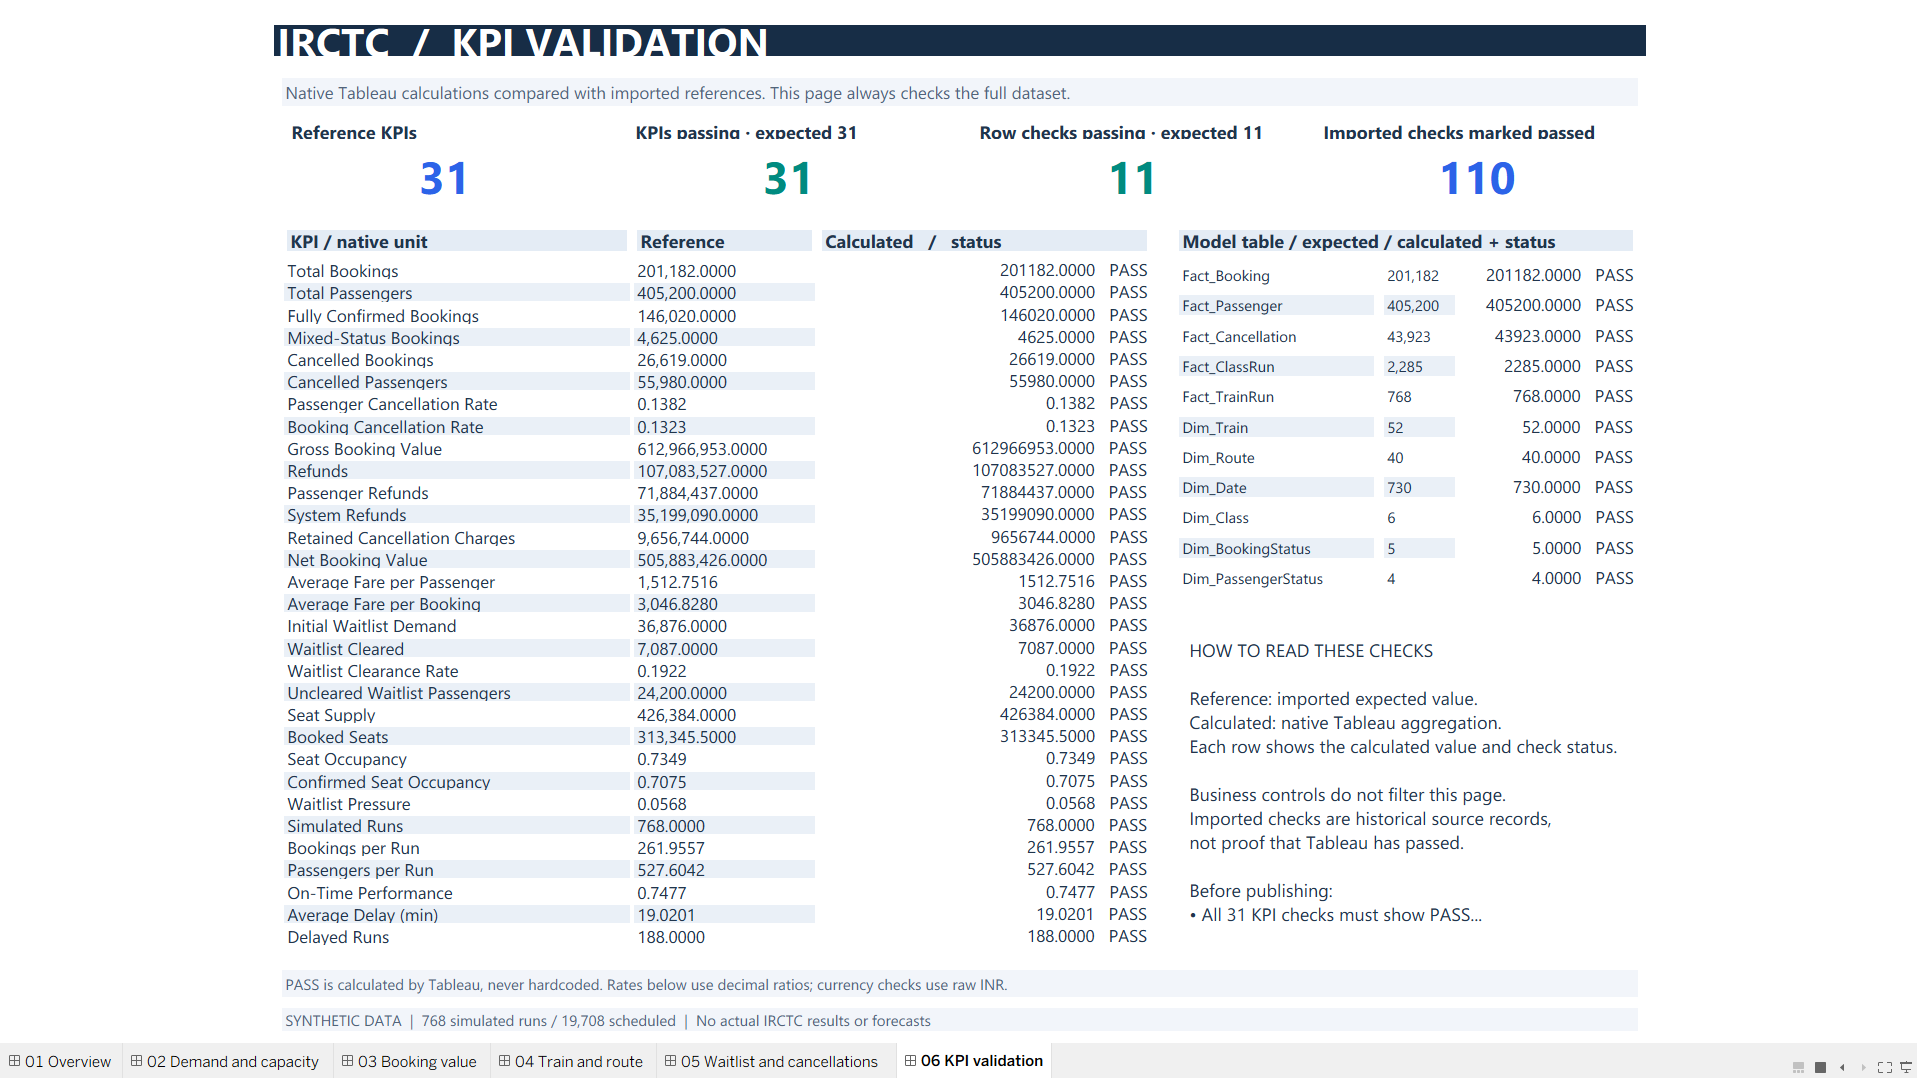

What the dashboard file says about the page in this screenshot:
{"tool":"tableau","page":{"name":"06 KPI validation","canvas":[1400,1020],"ordinal":5},"visuals":[{"type":"text","box":[0,0,1400,58]},{"type":"text","box":[22,66,1356,28]},{"type":"text","box":[22,106,327,27]},{"type":"text","box":[366,106,327,27]},{"type":"text","box":[710,106,327,27]},{"type":"text","box":[1054,106,327,27]},{"type":"worksheet","title":"06 KPI Reference KPIs","mark":"Text","box":[22,133,327,61]},{"type":"worksheet","title":"06 KPI KPIs passing · expected 31","mark":"Text","box":[366,133,327,61]},{"type":"worksheet","title":"06 KPI Row checks passing · expected 11","mark":"Text","box":[710,133,327,61]},{"type":"worksheet","title":"06 KPI Imported checks marked passed","mark":"Text","box":[1054,133,327,61]},{"type":"text","box":[22,212,350,31]},{"type":"text","box":[372,212,185,31]},{"type":"text","box":[557,212,335,31]},{"type":"text","box":[914,212,464,31]},{"type":"text","box":[22,246,350,22]},{"type":"text","box":[372,246,185,22]},{"type":"worksheet","title":"CHECK total_bookings","mark":"Text","box":[557,246,335,22]},{"type":"text","box":[914,247,205,30]},{"type":"text","box":[1119,247,81,30]},{"type":"worksheet","title":"ROWS Fact_Booking","mark":"Text","box":[1200,247,178,30]},{"type":"text","box":[22,268,350,22]},{"type":"text","box":[372,268,185,22]},{"type":"worksheet","title":"CHECK total_passengers","mark":"Text","box":[557,268,335,22]},{"type":"text","box":[914,277,205,30]},{"type":"text","box":[1119,277,81,30]},{"type":"worksheet","title":"ROWS Fact_Passenger","mark":"Text","box":[1200,277,178,30]},{"type":"text","box":[22,290,350,22]},{"type":"text","box":[372,290,185,22]},{"type":"worksheet","title":"CHECK confirmed_bookings","mark":"Text","box":[557,290,335,22]},{"type":"text","box":[914,307,205,30]},{"type":"text","box":[1119,307,81,30]},{"type":"worksheet","title":"ROWS Fact_Cancellation","mark":"Text","box":[1200,307,178,30]},{"type":"text","box":[22,312,350,22]},{"type":"text","box":[372,312,185,22]},{"type":"worksheet","title":"CHECK mixed_bookings","mark":"Text","box":[557,312,335,22]},{"type":"text","box":[22,334,350,22]},{"type":"text","box":[372,334,185,22]},{"type":"worksheet","title":"CHECK cancelled_bookings","mark":"Text","box":[557,334,335,22]},{"type":"text","box":[914,337,205,30]},{"type":"text","box":[1119,337,81,30]},{"type":"worksheet","title":"ROWS Fact_ClassRun","mark":"Text","box":[1200,337,178,30]},{"type":"text","box":[22,356,350,22]},{"type":"text","box":[372,356,185,22]},{"type":"worksheet","title":"CHECK cancelled_passengers","mark":"Text","box":[557,356,335,22]},{"type":"text","box":[914,367,205,30]},{"type":"text","box":[1119,367,81,30]},{"type":"worksheet","title":"ROWS Fact_TrainRun","mark":"Text","box":[1200,367,178,30]},{"type":"text","box":[22,378,350,22]},{"type":"text","box":[372,378,185,22]},{"type":"worksheet","title":"CHECK passenger_cancellation_rate","mark":"Text","box":[557,378,335,22]},{"type":"text","box":[914,397,205,30]},{"type":"text","box":[1119,397,81,30]},{"type":"worksheet","title":"ROWS Dim_Train","mark":"Text","box":[1200,397,178,30]},{"type":"text","box":[22,400,350,22]},{"type":"text","box":[372,400,185,22]},{"type":"worksheet","title":"CHECK booking_cancellation_rate","mark":"Text","box":[557,400,335,22]},{"type":"text","box":[22,422,350,22]},{"type":"text","box":[372,422,185,22]},{"type":"worksheet","title":"CHECK gross_value","mark":"Text","box":[557,422,335,22]},{"type":"text","box":[914,427,205,30]},{"type":"text","box":[1119,427,81,30]},{"type":"worksheet","title":"ROWS Dim_Route","mark":"Text","box":[1200,427,178,30]},{"type":"text","box":[22,444,350,22]},{"type":"text","box":[372,444,185,22]},{"type":"worksheet","title":"CHECK refund_total","mark":"Text","box":[557,444,335,22]},{"type":"text","box":[914,457,205,30]},{"type":"text","box":[1119,457,81,30]},{"type":"worksheet","title":"ROWS Dim_Date","mark":"Text","box":[1200,457,178,30]},{"type":"text","box":[22,466,350,22]},{"type":"text","box":[372,466,185,22]},{"type":"worksheet","title":"CHECK refund_passenger","mark":"Text","box":[557,466,335,22]},{"type":"text","box":[914,487,205,30]},{"type":"text","box":[1119,487,81,30]},{"type":"worksheet","title":"ROWS Dim_Class","mark":"Text","box":[1200,487,178,30]},{"type":"text","box":[22,488,350,22]},{"type":"text","box":[372,488,185,22]},{"type":"worksheet","title":"CHECK refund_system","mark":"Text","box":[557,488,335,22]},{"type":"text","box":[22,510,350,22]},{"type":"text","box":[372,510,185,22]},{"type":"worksheet","title":"CHECK retained_charges","mark":"Text","box":[557,510,335,22]},{"type":"text","box":[914,517,205,30]},{"type":"text","box":[1119,517,81,30]},{"type":"worksheet","title":"ROWS Dim_BookingStatus","mark":"Text","box":[1200,517,178,30]},{"type":"text","box":[22,532,350,22]},{"type":"text","box":[372,532,185,22]},{"type":"worksheet","title":"CHECK net_value","mark":"Text","box":[557,532,335,22]},{"type":"text","box":[914,547,205,30]},{"type":"text","box":[1119,547,81,30]},{"type":"worksheet","title":"ROWS Dim_PassengerStatus","mark":"Text","box":[1200,547,178,30]},{"type":"text","box":[22,554,350,22]},{"type":"text","box":[372,554,185,22]},{"type":"worksheet","title":"CHECK avg_fare_per_passenger","mark":"Text","box":[557,554,335,22]},{"type":"text","box":[22,576,350,22]},{"type":"text","box":[372,576,185,22]},{"type":"worksheet","title":"CHECK avg_fare_per_booking","mark":"Text","box":[557,576,335,22]},{"type":"text","box":[22,598,350,22]},{"type":"text","box":[372,598,185,22]},{"type":"worksheet","title":"CHECK wl_demand","mark":"Text","box":[557,598,335,22]},{"type":"text","box":[914,603,464,323]},{"type":"text","box":[22,620,350,22]},{"type":"text","box":[372,620,185,22]},{"type":"worksheet","title":"CHECK wl_cleared","mark":"Text","box":[557,620,335,22]},{"type":"text","box":[22,642,350,22]},{"type":"text","box":[372,642,185,22]},{"type":"worksheet","title":"CHECK wl_clearance_rate","mark":"Text","box":[557,642,335,22]},{"type":"text","box":[22,664,350,22]},{"type":"text","box":[372,664,185,22]},{"type":"worksheet","title":"CHECK wl_uncleared","mark":"Text","box":[557,664,335,22]},{"type":"text","box":[22,686,350,22]},{"type":"text","box":[372,686,185,22]},{"type":"worksheet","title":"CHECK seat_supply","mark":"Text","box":[557,686,335,22]},{"type":"text","box":[22,708,350,22]},{"type":"text","box":[372,708,185,22]},{"type":"worksheet","title":"CHECK booked_seats","mark":"Text","box":[557,708,335,22]},{"type":"text","box":[22,730,350,22]},{"type":"text","box":[372,730,185,22]},{"type":"worksheet","title":"CHECK occupancy","mark":"Text","box":[557,730,335,22]},{"type":"text","box":[22,752,350,22]},{"type":"text","box":[372,752,185,22]},{"type":"worksheet","title":"CHECK confirmed_occupancy","mark":"Text","box":[557,752,335,22]},{"type":"text","box":[22,774,350,22]},{"type":"text","box":[372,774,185,22]},{"type":"worksheet","title":"CHECK waitlist_pressure","mark":"Text","box":[557,774,335,22]},{"type":"text","box":[22,796,350,22]},{"type":"text","box":[372,796,185,22]},{"type":"worksheet","title":"CHECK simulated_runs","mark":"Text","box":[557,796,335,22]},{"type":"text","box":[22,818,350,22]},{"type":"text","box":[372,818,185,22]},{"type":"worksheet","title":"CHECK bookings_per_run","mark":"Text","box":[557,818,335,22]},{"type":"text","box":[22,840,350,22]},{"type":"text","box":[372,840,185,22]},{"type":"worksheet","title":"CHECK passengers_per_run","mark":"Text","box":[557,840,335,22]},{"type":"text","box":[22,862,350,22]},{"type":"text","box":[372,862,185,22]},{"type":"worksheet","title":"CHECK otp","mark":"Text","box":[557,862,335,22]},{"type":"text","box":[22,884,350,22]},{"type":"text","box":[372,884,185,22]},{"type":"worksheet","title":"CHECK avg_delay","mark":"Text","box":[557,884,335,22]},{"type":"text","box":[22,906,350,22]},{"type":"text","box":[372,906,185,22]},{"type":"worksheet","title":"CHECK delayed_runs","mark":"Text","box":[557,906,335,22]},{"type":"text","box":[22,951,1356,27]},{"type":"text","box":[22,988,1356,23]}]}

Visuals, with their boxes on the page's 1400x1020 design canvas (x1, y1, x2, y2). These are canvas units, not pixel positions in the 1917x1078 screenshot, which may show the page scaled, cropped or inside an application window:
text: locate(0, 0, 1400, 58)
text: locate(22, 66, 1378, 94)
text: locate(22, 106, 349, 133)
text: locate(366, 106, 693, 133)
text: locate(710, 106, 1037, 133)
text: locate(1054, 106, 1381, 133)
"06 KPI Reference KPIs" worksheet (Text marks): locate(22, 133, 349, 194)
"06 KPI KPIs passing · expected 31" worksheet (Text marks): locate(366, 133, 693, 194)
"06 KPI Row checks passing · expected 11" worksheet (Text marks): locate(710, 133, 1037, 194)
"06 KPI Imported checks marked passed" worksheet (Text marks): locate(1054, 133, 1381, 194)
text: locate(22, 212, 372, 243)
text: locate(372, 212, 557, 243)
text: locate(557, 212, 892, 243)
text: locate(914, 212, 1378, 243)
text: locate(22, 246, 372, 268)
text: locate(372, 246, 557, 268)
"CHECK total_bookings" worksheet (Text marks): locate(557, 246, 892, 268)
text: locate(914, 247, 1119, 277)
text: locate(1119, 247, 1200, 277)
"ROWS Fact_Booking" worksheet (Text marks): locate(1200, 247, 1378, 277)
text: locate(22, 268, 372, 290)
text: locate(372, 268, 557, 290)
"CHECK total_passengers" worksheet (Text marks): locate(557, 268, 892, 290)
text: locate(914, 277, 1119, 307)
text: locate(1119, 277, 1200, 307)
"ROWS Fact_Passenger" worksheet (Text marks): locate(1200, 277, 1378, 307)
text: locate(22, 290, 372, 312)
text: locate(372, 290, 557, 312)
"CHECK confirmed_bookings" worksheet (Text marks): locate(557, 290, 892, 312)
text: locate(914, 307, 1119, 337)
text: locate(1119, 307, 1200, 337)
"ROWS Fact_Cancellation" worksheet (Text marks): locate(1200, 307, 1378, 337)
text: locate(22, 312, 372, 334)
text: locate(372, 312, 557, 334)
"CHECK mixed_bookings" worksheet (Text marks): locate(557, 312, 892, 334)
text: locate(22, 334, 372, 356)
text: locate(372, 334, 557, 356)
"CHECK cancelled_bookings" worksheet (Text marks): locate(557, 334, 892, 356)
text: locate(914, 337, 1119, 367)
text: locate(1119, 337, 1200, 367)
"ROWS Fact_ClassRun" worksheet (Text marks): locate(1200, 337, 1378, 367)
text: locate(22, 356, 372, 378)
text: locate(372, 356, 557, 378)
"CHECK cancelled_passengers" worksheet (Text marks): locate(557, 356, 892, 378)
text: locate(914, 367, 1119, 397)
text: locate(1119, 367, 1200, 397)
"ROWS Fact_TrainRun" worksheet (Text marks): locate(1200, 367, 1378, 397)
text: locate(22, 378, 372, 400)
text: locate(372, 378, 557, 400)
"CHECK passenger_cancellation_rate" worksheet (Text marks): locate(557, 378, 892, 400)
text: locate(914, 397, 1119, 427)
text: locate(1119, 397, 1200, 427)
"ROWS Dim_Train" worksheet (Text marks): locate(1200, 397, 1378, 427)
text: locate(22, 400, 372, 422)
text: locate(372, 400, 557, 422)
"CHECK booking_cancellation_rate" worksheet (Text marks): locate(557, 400, 892, 422)
text: locate(22, 422, 372, 444)
text: locate(372, 422, 557, 444)
"CHECK gross_value" worksheet (Text marks): locate(557, 422, 892, 444)
text: locate(914, 427, 1119, 457)
text: locate(1119, 427, 1200, 457)
"ROWS Dim_Route" worksheet (Text marks): locate(1200, 427, 1378, 457)
text: locate(22, 444, 372, 466)
text: locate(372, 444, 557, 466)
"CHECK refund_total" worksheet (Text marks): locate(557, 444, 892, 466)
text: locate(914, 457, 1119, 487)
text: locate(1119, 457, 1200, 487)
"ROWS Dim_Date" worksheet (Text marks): locate(1200, 457, 1378, 487)
text: locate(22, 466, 372, 488)
text: locate(372, 466, 557, 488)
"CHECK refund_passenger" worksheet (Text marks): locate(557, 466, 892, 488)
text: locate(914, 487, 1119, 517)
text: locate(1119, 487, 1200, 517)
"ROWS Dim_Class" worksheet (Text marks): locate(1200, 487, 1378, 517)
text: locate(22, 488, 372, 510)
text: locate(372, 488, 557, 510)
"CHECK refund_system" worksheet (Text marks): locate(557, 488, 892, 510)
text: locate(22, 510, 372, 532)
text: locate(372, 510, 557, 532)
"CHECK retained_charges" worksheet (Text marks): locate(557, 510, 892, 532)
text: locate(914, 517, 1119, 547)
text: locate(1119, 517, 1200, 547)
"ROWS Dim_BookingStatus" worksheet (Text marks): locate(1200, 517, 1378, 547)
text: locate(22, 532, 372, 554)
text: locate(372, 532, 557, 554)
"CHECK net_value" worksheet (Text marks): locate(557, 532, 892, 554)
text: locate(914, 547, 1119, 577)
text: locate(1119, 547, 1200, 577)
"ROWS Dim_PassengerStatus" worksheet (Text marks): locate(1200, 547, 1378, 577)
text: locate(22, 554, 372, 576)
text: locate(372, 554, 557, 576)
"CHECK avg_fare_per_passenger" worksheet (Text marks): locate(557, 554, 892, 576)
text: locate(22, 576, 372, 598)
text: locate(372, 576, 557, 598)
"CHECK avg_fare_per_booking" worksheet (Text marks): locate(557, 576, 892, 598)
text: locate(22, 598, 372, 620)
text: locate(372, 598, 557, 620)
"CHECK wl_demand" worksheet (Text marks): locate(557, 598, 892, 620)
text: locate(914, 603, 1378, 926)
text: locate(22, 620, 372, 642)
text: locate(372, 620, 557, 642)
"CHECK wl_cleared" worksheet (Text marks): locate(557, 620, 892, 642)
text: locate(22, 642, 372, 664)
text: locate(372, 642, 557, 664)
"CHECK wl_clearance_rate" worksheet (Text marks): locate(557, 642, 892, 664)
text: locate(22, 664, 372, 686)
text: locate(372, 664, 557, 686)
"CHECK wl_uncleared" worksheet (Text marks): locate(557, 664, 892, 686)
text: locate(22, 686, 372, 708)
text: locate(372, 686, 557, 708)
"CHECK seat_supply" worksheet (Text marks): locate(557, 686, 892, 708)
text: locate(22, 708, 372, 730)
text: locate(372, 708, 557, 730)
"CHECK booked_seats" worksheet (Text marks): locate(557, 708, 892, 730)
text: locate(22, 730, 372, 752)
text: locate(372, 730, 557, 752)
"CHECK occupancy" worksheet (Text marks): locate(557, 730, 892, 752)
text: locate(22, 752, 372, 774)
text: locate(372, 752, 557, 774)
"CHECK confirmed_occupancy" worksheet (Text marks): locate(557, 752, 892, 774)
text: locate(22, 774, 372, 796)
text: locate(372, 774, 557, 796)
"CHECK waitlist_pressure" worksheet (Text marks): locate(557, 774, 892, 796)
text: locate(22, 796, 372, 818)
text: locate(372, 796, 557, 818)
"CHECK simulated_runs" worksheet (Text marks): locate(557, 796, 892, 818)
text: locate(22, 818, 372, 840)
text: locate(372, 818, 557, 840)
"CHECK bookings_per_run" worksheet (Text marks): locate(557, 818, 892, 840)
text: locate(22, 840, 372, 862)
text: locate(372, 840, 557, 862)
"CHECK passengers_per_run" worksheet (Text marks): locate(557, 840, 892, 862)
text: locate(22, 862, 372, 884)
text: locate(372, 862, 557, 884)
"CHECK otp" worksheet (Text marks): locate(557, 862, 892, 884)
text: locate(22, 884, 372, 906)
text: locate(372, 884, 557, 906)
"CHECK avg_delay" worksheet (Text marks): locate(557, 884, 892, 906)
text: locate(22, 906, 372, 928)
text: locate(372, 906, 557, 928)
"CHECK delayed_runs" worksheet (Text marks): locate(557, 906, 892, 928)
text: locate(22, 951, 1378, 978)
text: locate(22, 988, 1378, 1011)
